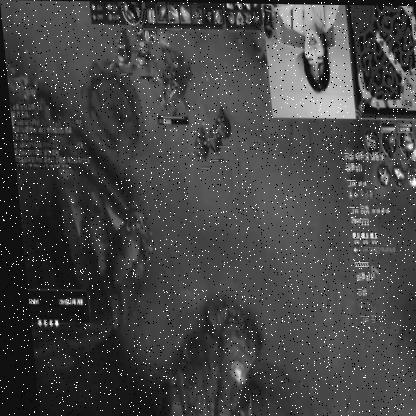streamer: (272, 3, 352, 94)
